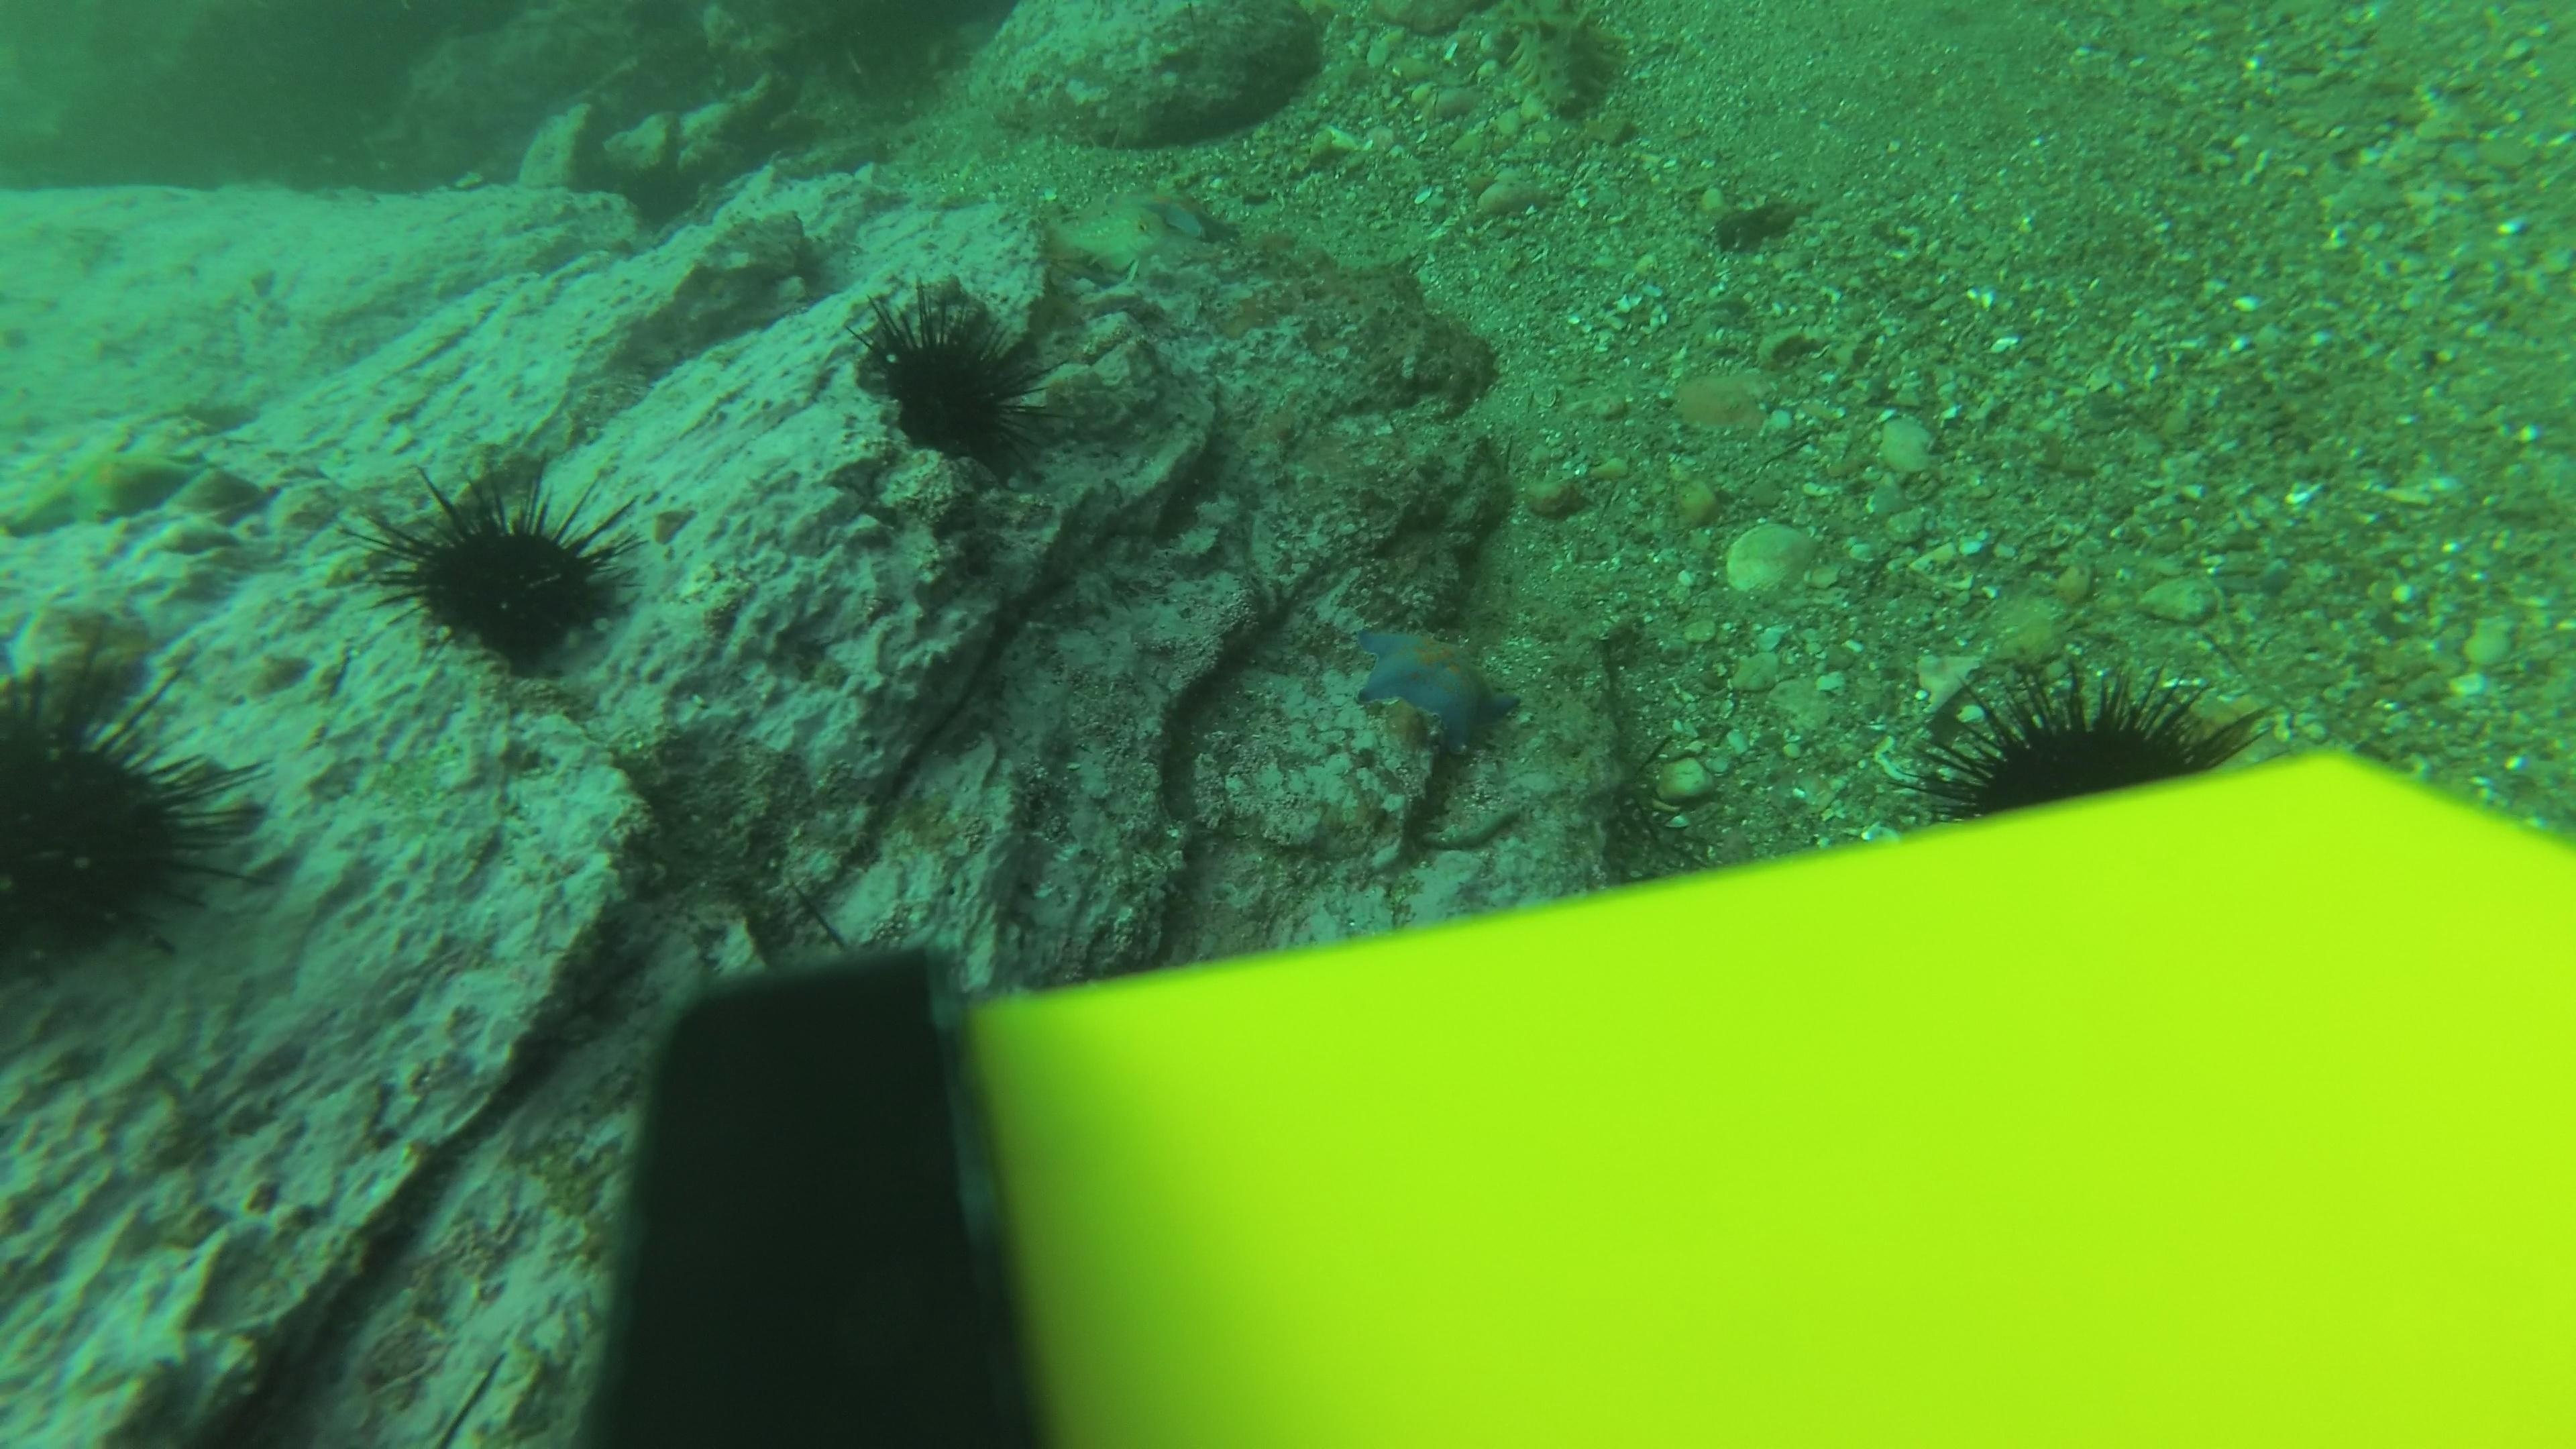echinus: (2, 644, 262, 975), (356, 455, 644, 674), (1905, 656, 2265, 816), (847, 278, 1054, 472)
holothurian: (1491, 4, 1637, 127)
starfish: (1346, 616, 1527, 755), (2, 444, 218, 541), (1044, 182, 1238, 283), (1134, 184, 1238, 248)
